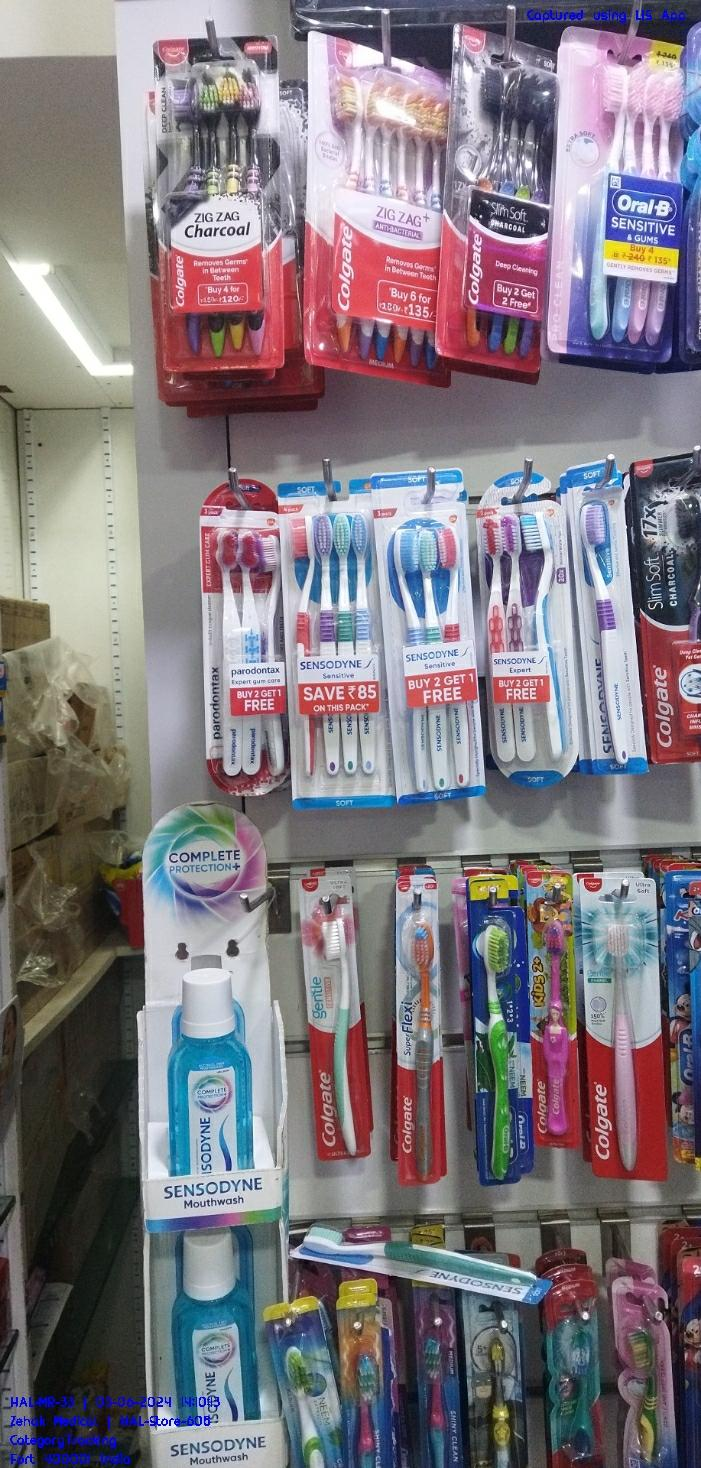10: (558, 29, 675, 363)
14: (283, 485, 382, 808)
6: (477, 475, 566, 788)
liquid soap: (154, 40, 281, 372), (443, 22, 544, 369)
soap: (637, 461, 701, 759)
